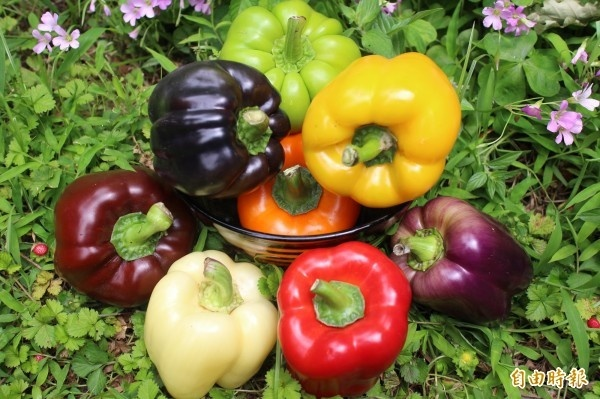fruit: (302, 51, 461, 210), (277, 238, 412, 396), (148, 59, 293, 202), (143, 249, 278, 399), (53, 171, 198, 310), (389, 195, 534, 325), (219, 2, 362, 130), (239, 135, 360, 235)
pedicle: (109, 211, 162, 262), (273, 163, 323, 214), (313, 282, 366, 328), (271, 31, 317, 75), (353, 123, 395, 167), (236, 106, 273, 155), (409, 228, 444, 272), (202, 281, 245, 315)
